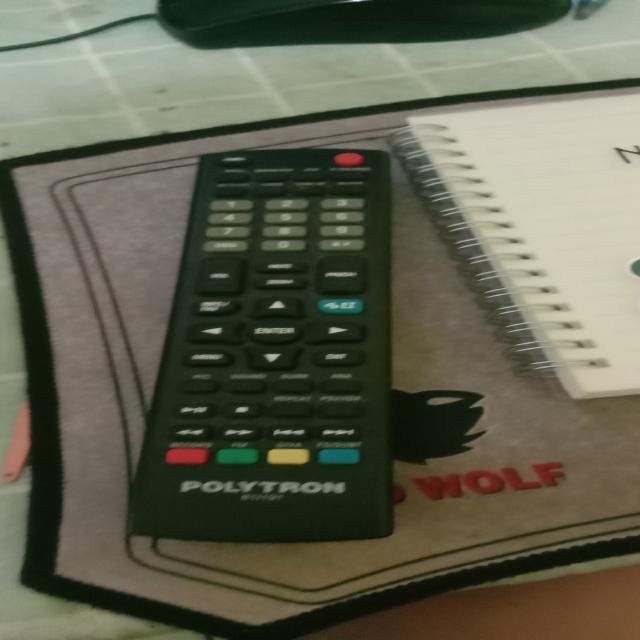remote: (130, 144, 405, 544)
